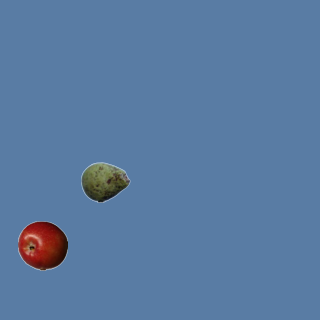Apple Braeburn: (17, 220, 67, 270)
Pear Stone: (80, 157, 130, 207)
